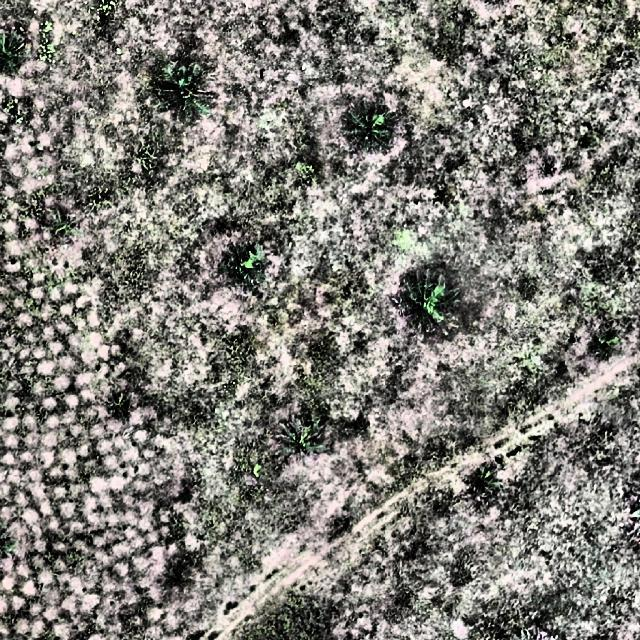Kelapa_Sawit: (402, 280, 460, 334), (155, 64, 215, 114), (278, 414, 333, 460), (347, 105, 396, 153), (216, 243, 269, 286), (2, 34, 26, 80), (470, 467, 506, 497), (592, 328, 624, 360), (49, 212, 78, 242), (106, 395, 138, 422)
